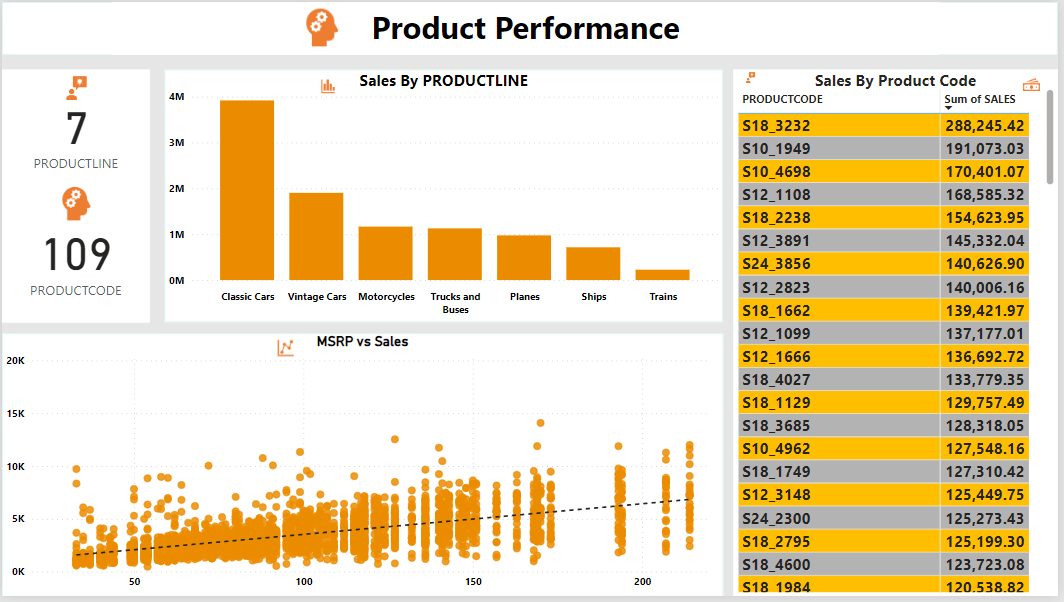

Layout of this report page (visuals, bound fields, positions):
{"tool":"powerbi","page":{"name":"Product Performance","canvas":[1280,720],"ordinal":2},"visuals":[{"type":"shape","box":[197.4,82.1,676.9,306.4],"z":0},{"type":"shape","box":[0,401.3,874.4,319.2],"z":1000},{"type":"shape","box":[0,82.1,179.5,306.4],"z":2000},{"type":"shape","box":[885.9,82.1,393.6,638.5],"z":3000},{"type":"shape","box":[0,0,1279.5,64.1],"z":4000},{"type":"textbox","box":[133.3,0,1002.6,64.1],"z":5000},{"type":"card","fields":{"Values":["Count(sales_data_sample.PRODUCTLINE)"]},"box":[0,82.1,179.5,150],"z":6000},{"type":"card","fields":{"Values":["Count(sales_data_sample.PRODUCTCODE)"]},"box":[0,232.1,179.5,156.4],"z":7000},{"type":"columnChart","title":"Sales By  PRODUCTLINE","fields":{"Category":["sales_data_sample.PRODUCTLINE"],"Y":["Sum(sales_data_sample.SALES)"]},"box":[197.4,82.1,676.9,306.4],"z":8000},{"type":"scatterChart","title":"MSRP vs Sales","fields":{"X":["sales_data_sample.MSRP"],"Y":["sales_data_sample.SALES"]},"box":[0,401.3,874.4,319.2],"z":9000},{"type":"tableEx","title":"Sales By Product Code","fields":{"Values":["sales_data_sample.PRODUCTCODE","Sum(sales_data_sample.SALES)"]},"box":[885.9,82.1,393.6,638.5],"z":10000},{"type":"image","box":[60.3,216.7,59,57.7],"z":11000},{"type":"image","box":[60.3,82.1,59,44.9],"z":12000},{"type":"image","box":[379.5,82.1,33.3,41],"z":13000},{"type":"image","box":[325.6,401.3,35.9,35.9],"z":14000},{"type":"image","box":[355.1,0,67.9,64.1],"z":15000},{"type":"image","box":[1232.1,79.5,32.1,43.6],"z":16000},{"type":"image","box":[885.9,79.5,42.3,25.6],"z":17000}]}

Visuals, with their boxes in screenshot pixels (x1, y1, x2, y2), scaled from the page's 1280x720 canvas onto the 1064x602 screenshot:
shape: l=164, t=69, r=727, b=325
shape: l=0, t=336, r=727, b=601
shape: l=0, t=69, r=149, b=325
shape: l=736, t=69, r=1063, b=601
shape: l=0, t=0, r=1063, b=54
textbox: l=111, t=0, r=944, b=54
card - Count(sales_data_sample.PRODUCTLINE): l=0, t=69, r=149, b=194
card - Count(sales_data_sample.PRODUCTCODE): l=0, t=194, r=149, b=325
"Sales By  PRODUCTLINE" columnChart: l=164, t=69, r=727, b=325
"MSRP vs Sales" scatterChart: l=0, t=336, r=727, b=601
"Sales By Product Code" tableEx: l=736, t=69, r=1063, b=601
image: l=50, t=181, r=99, b=229
image: l=50, t=69, r=99, b=106
image: l=315, t=69, r=343, b=103
image: l=271, t=336, r=300, b=366
image: l=295, t=0, r=352, b=54
image: l=1024, t=66, r=1051, b=103
image: l=736, t=66, r=772, b=88
